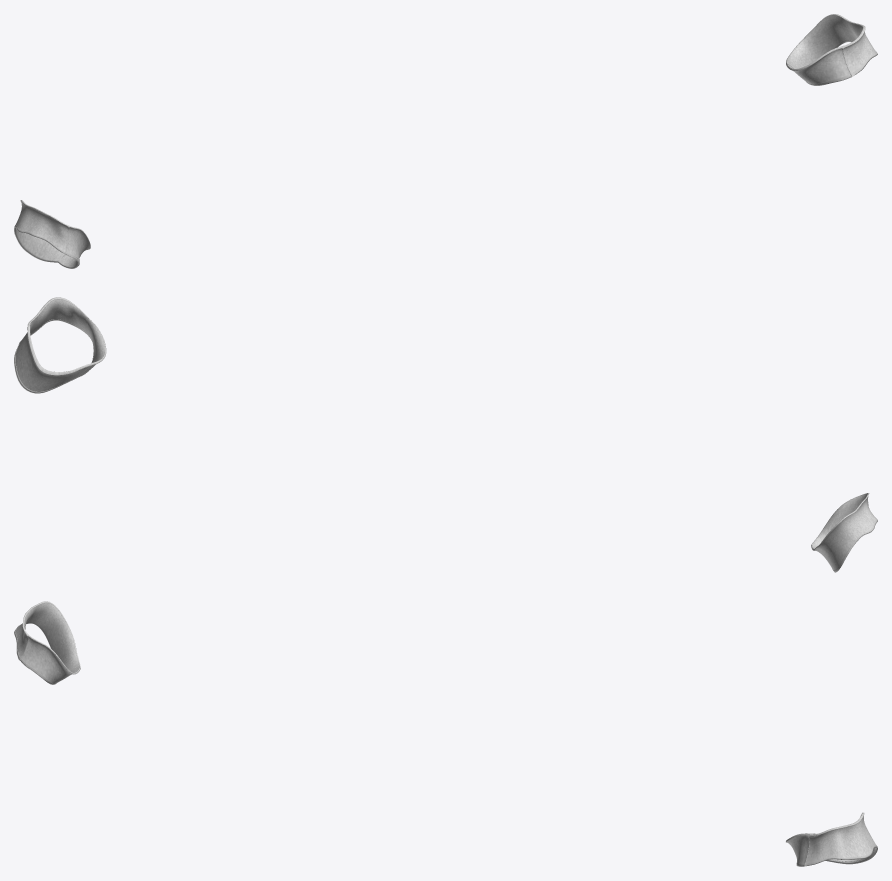
File: Jac_Rope_Sleeves_V1.glb
The picture shows the model from 3 angles, top to bottom: view 1: azimuth 30°, elevation 25°; view 2: azimuth 150°, elevation 25°; view 3: azimuth 330°, elevation 25°; orthographic projection.
Visible parts, largest first — view 1: Jac_Rope_Sleeves_V11, Rope1; view 2: Jac_Rope_Sleeves_V11, Rope1; view 3: Jac_Rope_Sleeves_V11, Rope1.
Boxes of the visible parts, x1=… form: Jac_Rope_Sleeves_V11: x1=14, y1=14, x2=877, y2=268; Rope1: x1=14, y1=15, x2=877, y2=261; Jac_Rope_Sleeves_V11: x1=14, y1=297, x2=877, y2=572; Rope1: x1=14, y1=298, x2=877, y2=571; Jac_Rope_Sleeves_V11: x1=14, y1=601, x2=877, y2=866; Rope1: x1=14, y1=602, x2=877, y2=865.
Size of the model in its own units: 1.54 by 0.1262 by 0.1555.
Materials: 2 (2 with a texture image).
